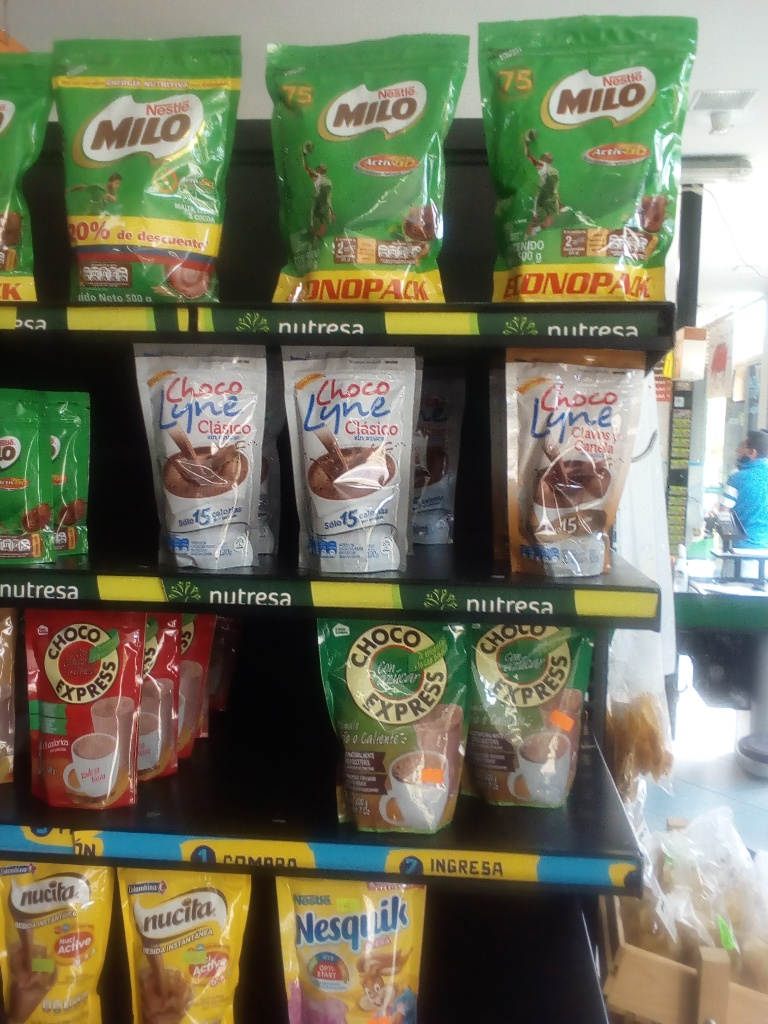COL0170203DYP50000: (475, 14, 705, 308)
COL0170305DYP20000: (272, 870, 428, 1024)
